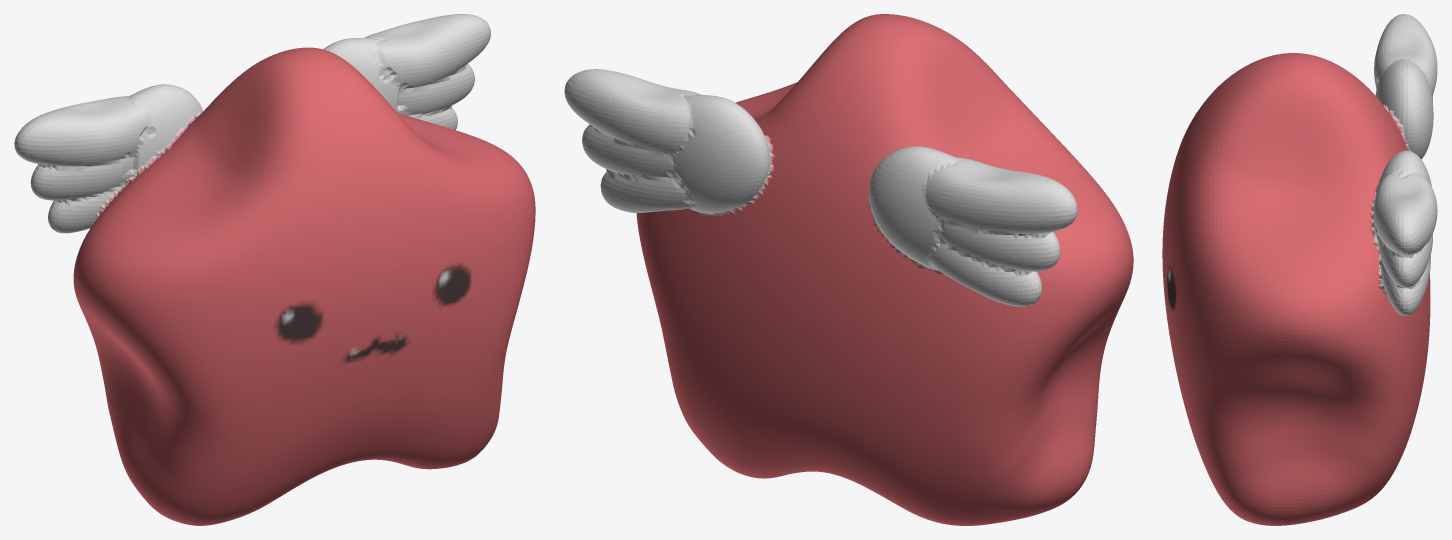
File: redstar.glb
3 renders of one model, left to right at view 1: azimuth 30°, elevation 25°; view 2: azimuth 150°, elevation 25°; view 3: azimuth 270°, elevation 25°, orthographic. The views are drawn at different scales.
Parts seen in each view (by area): view 1: 쿼드 구체 1; view 2: 쿼드 구체 1; view 3: 쿼드 구체 1.
Part boxes in pixels (x1,y1,x2,y2): 쿼드 구체 1: (14,14,535,525); 쿼드 구체 1: (564,14,1133,525); 쿼드 구체 1: (1162,14,1437,525).
Size of the model in its own units: 0.7829 by 0.6702 by 0.4149.
